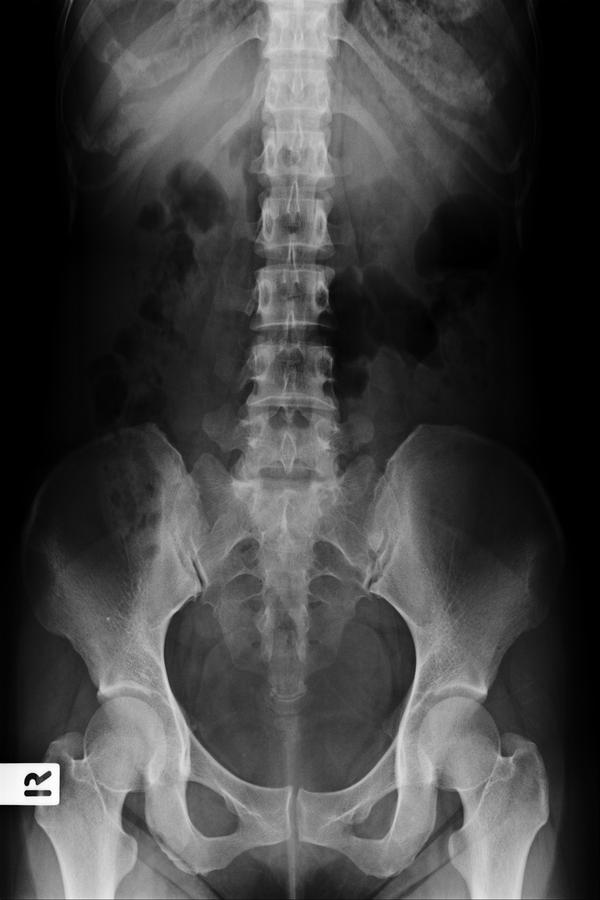lumbar scoliosis: (245, 152, 348, 514)
